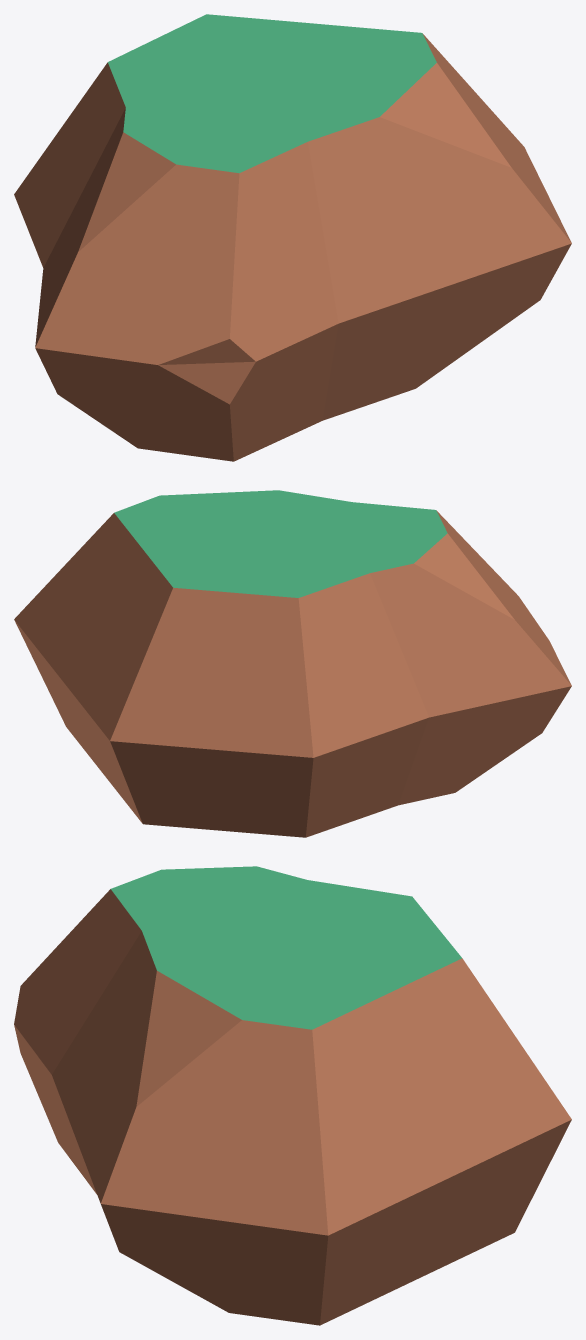
File: rock_grassy.glb
3 views of the same model, one above another, from view 1: azimuth 30°, elevation 25°; view 2: azimuth 150°, elevation 25°; view 3: azimuth 270°, elevation 25° (orthographic). The views are drawn at different scales.
Parts seen in each view (by area): view 1: rock_grassy; view 2: rock_grassy; view 3: rock_grassy.
Boxes of the visible parts, left/top/right/bottom form: rock_grassy: left=14, top=14, right=571, bottom=461; rock_grassy: left=14, top=490, right=571, bottom=837; rock_grassy: left=14, top=866, right=571, bottom=1325.
Size of the model in its own units: 1.1 by 0.479 by 0.899.
